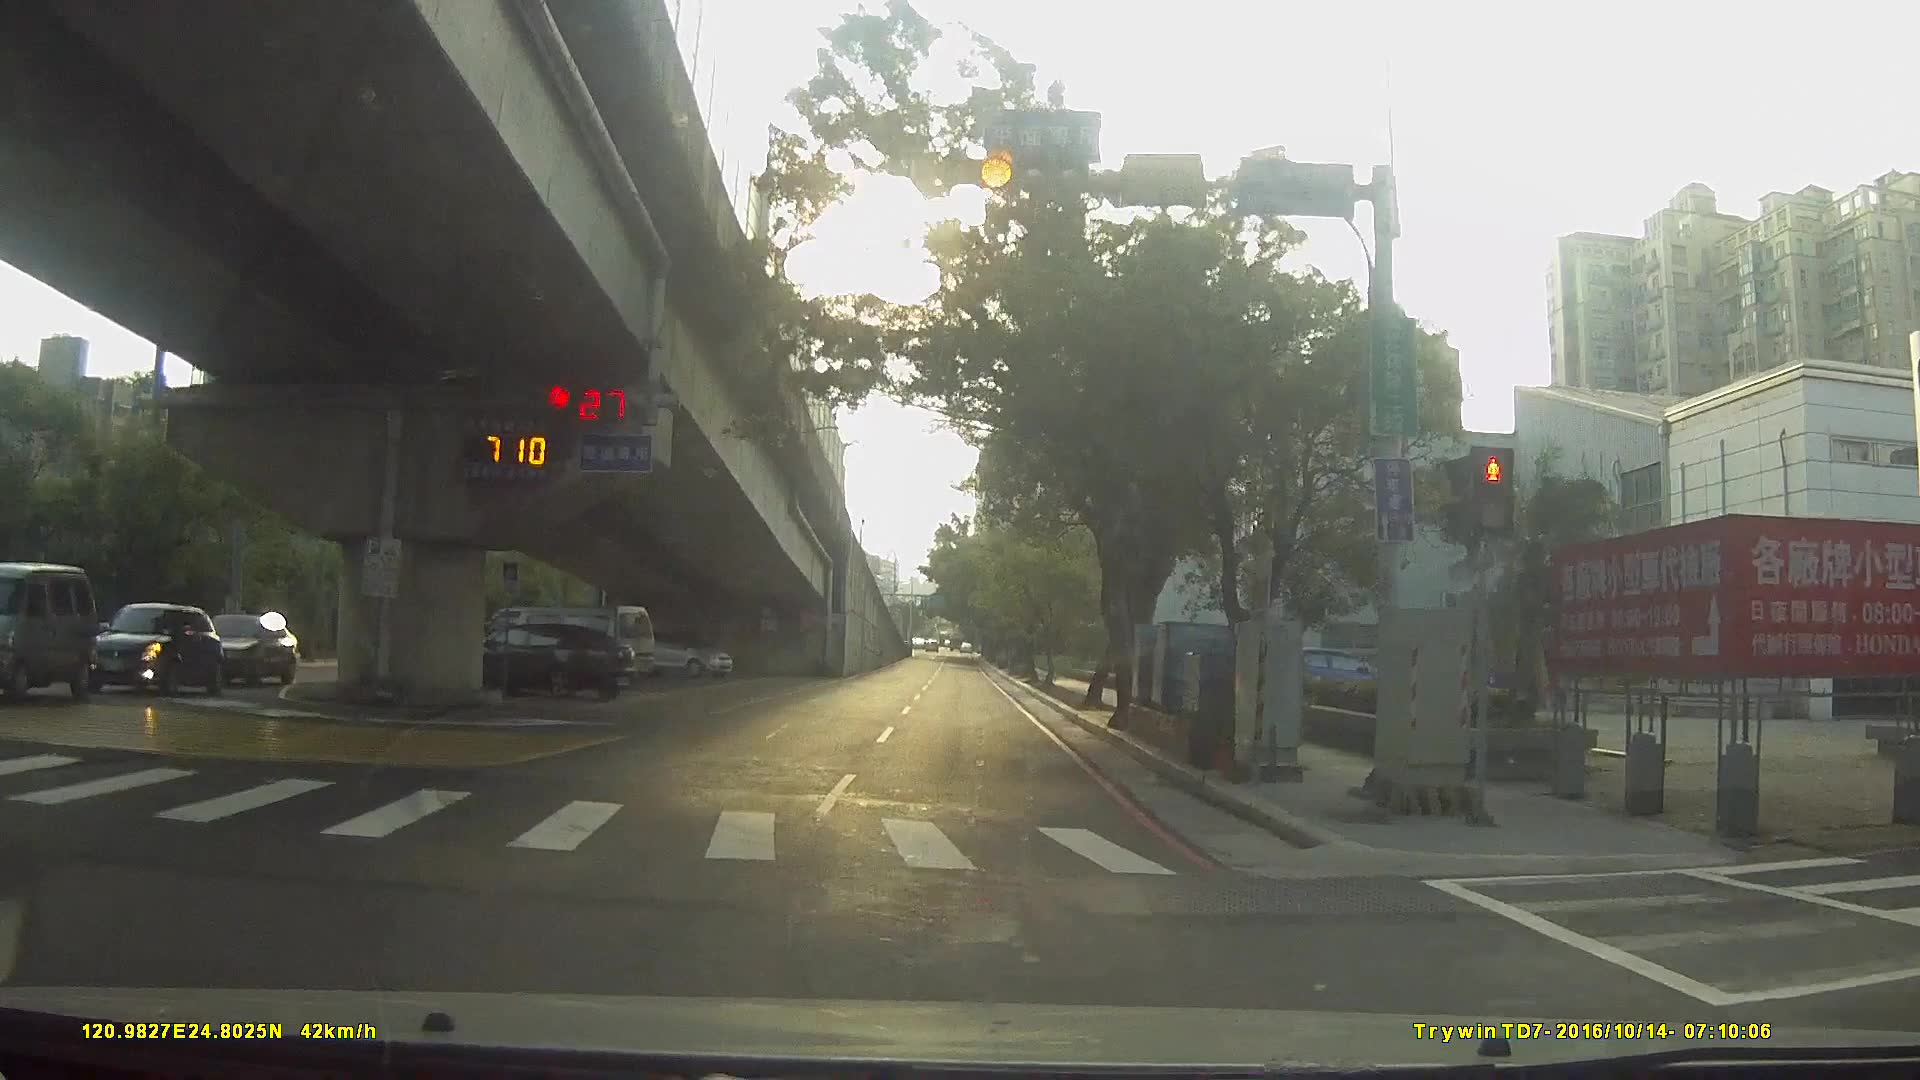vehicle: (468, 600, 653, 687), (442, 617, 632, 700), (1, 551, 104, 698), (74, 596, 218, 698), (178, 603, 307, 680), (622, 628, 732, 676)
